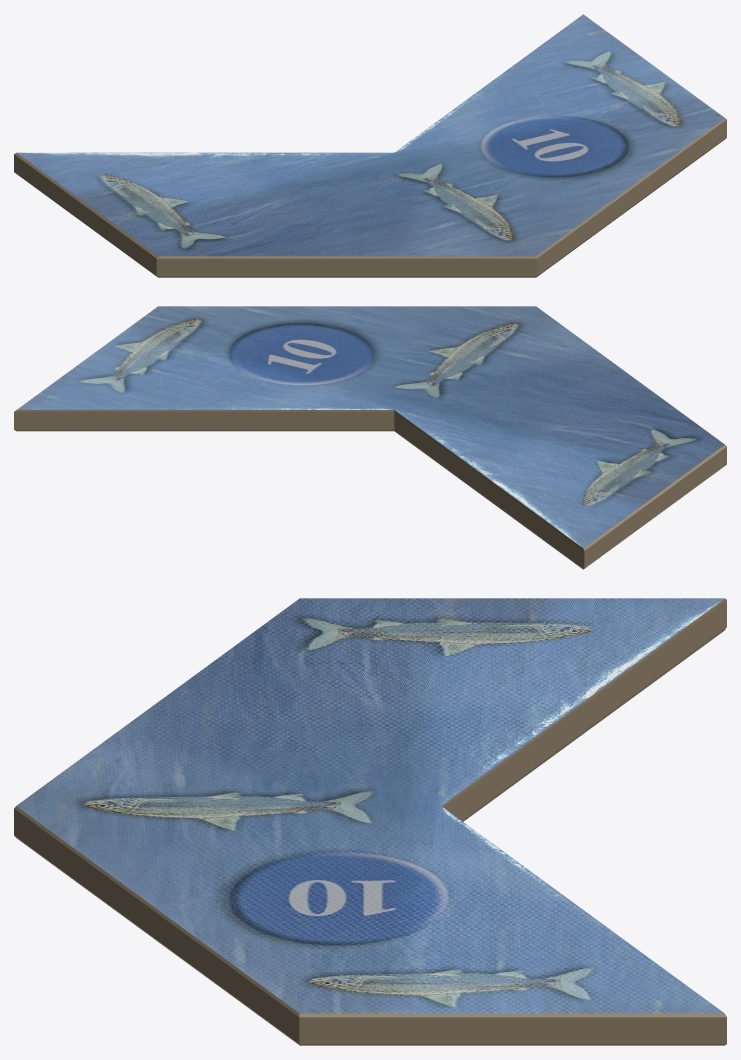
The model's file is ground-10.fbx.
3 renders of one model, top to bottom at view 1: azimuth 30°, elevation 25°; view 2: azimuth 150°, elevation 25°; view 3: azimuth 270°, elevation 25°, orthographic. The views are drawn at different scales.
Visible parts, largest first — view 1: ground-10.001; view 2: ground-10.001; view 3: ground-10.001.
Boxes of the visible parts, bbox=[...] form: ground-10.001: bbox=[14, 14, 726, 277]; ground-10.001: bbox=[14, 306, 726, 569]; ground-10.001: bbox=[14, 598, 726, 1045].
Size of the model in its own units: 4.2 by 0.15 by 3.03.
Materials: 2 (1 with a texture image).
